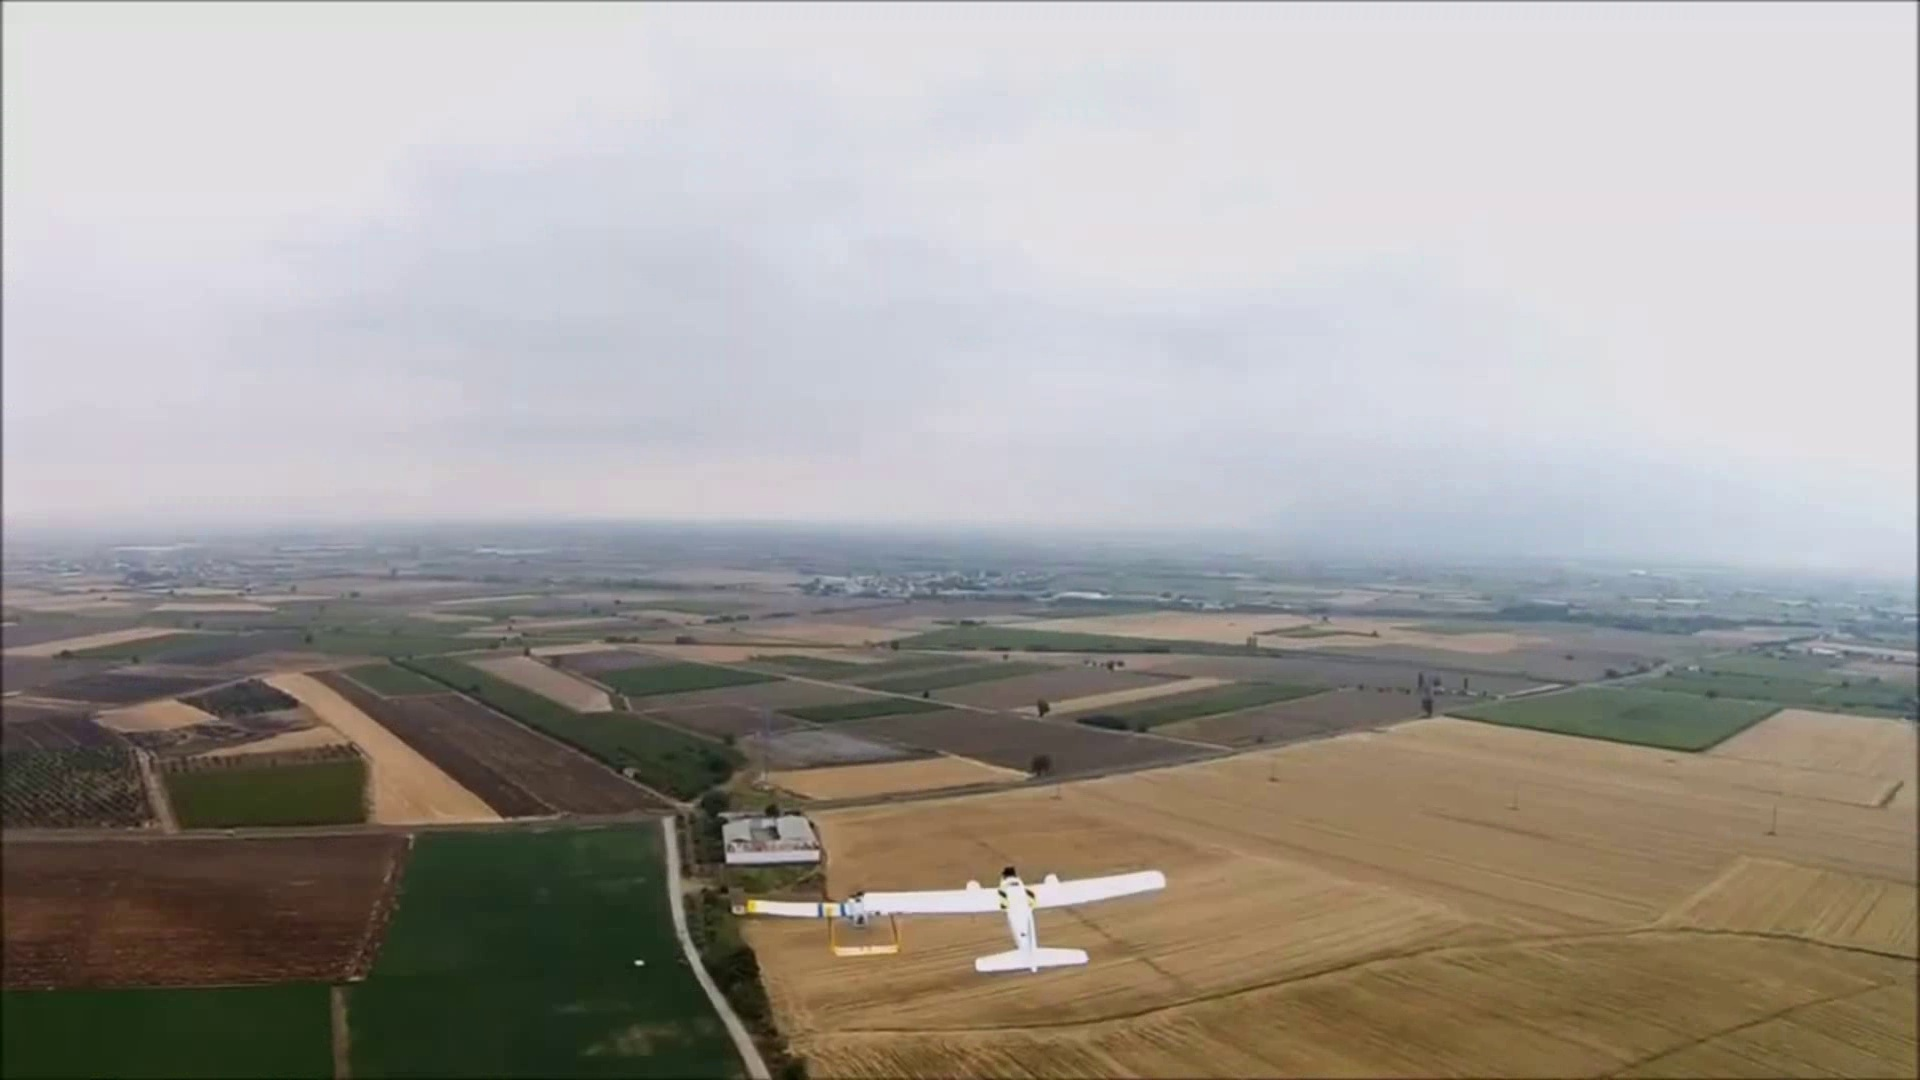airplane: (787, 861, 1166, 975)
